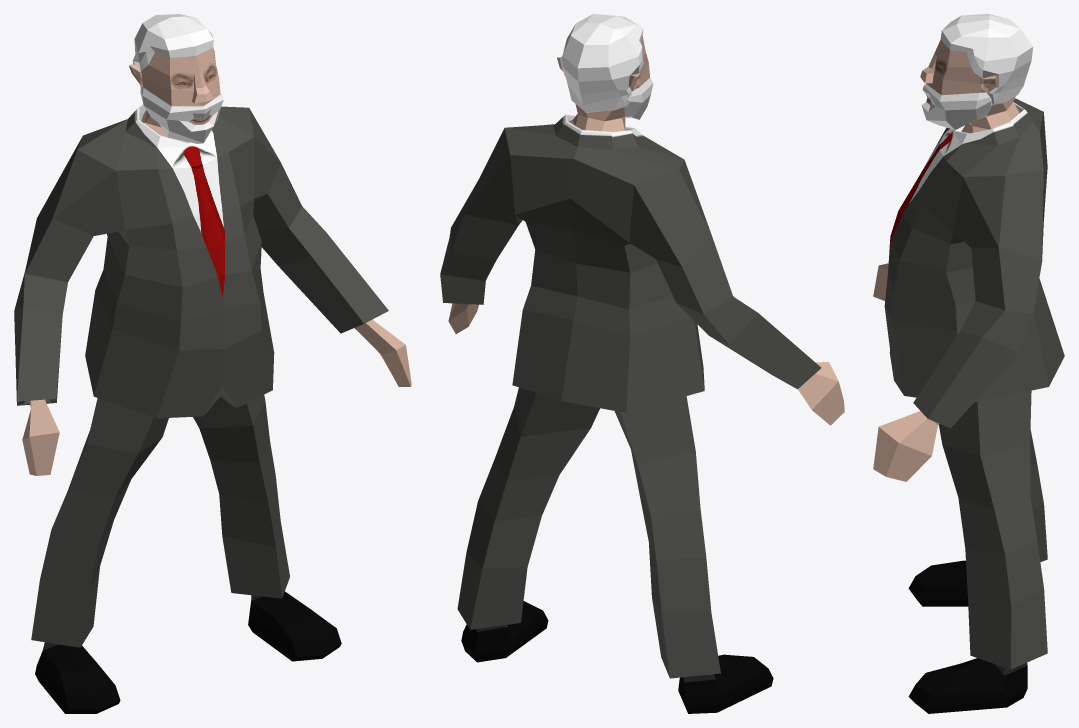
The model's file is Lula.fbx.
3 renders of one model, left to right at view 1: azimuth 30°, elevation 25°; view 2: azimuth 150°, elevation 25°; view 3: azimuth 270°, elevation 25°, orthographic. The views are drawn at different scales.
Parts seen in each view (by area): view 1: Lula; view 2: Lula; view 3: Lula.
Part boxes in pixels (x1=…): Lula: x1=14, y1=14, x2=411, y2=713; Lula: x1=440, y1=14, x2=844, y2=713; Lula: x1=873, y1=14, x2=1064, y2=713.
Bounding box in the file's own units: 336 × 547 × 151.
1 material, 1 textured.
